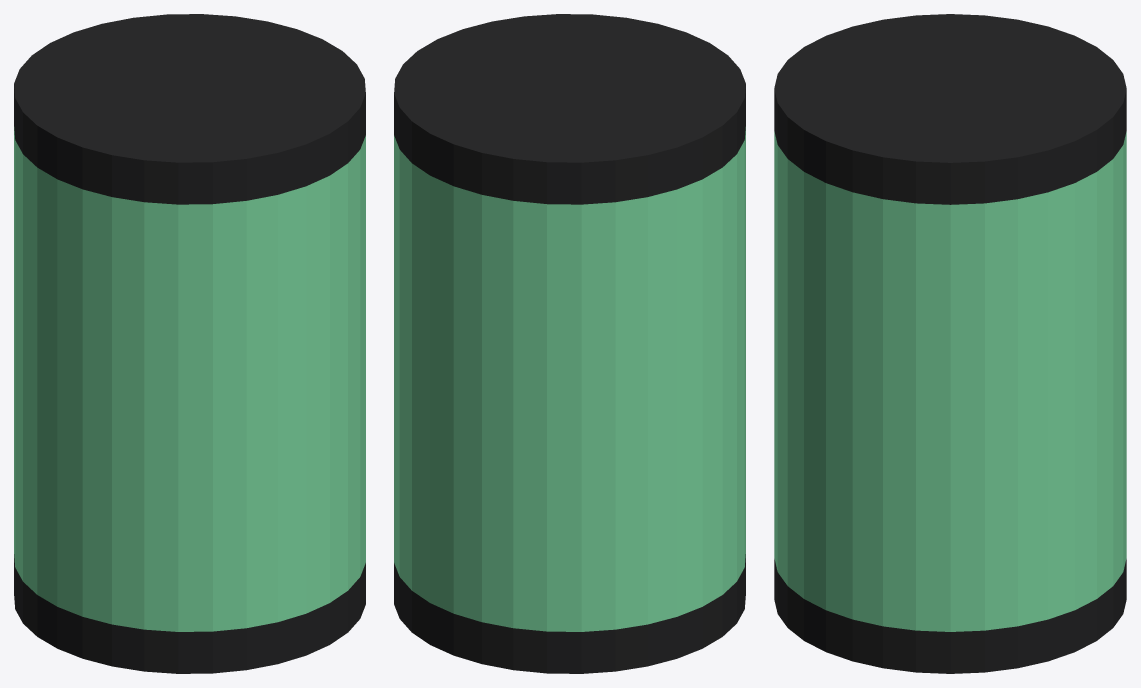
File: Portal Out.fbx
The picture shows the model from 3 angles, left to right: view 1: azimuth 30°, elevation 25°; view 2: azimuth 150°, elevation 25°; view 3: azimuth 270°, elevation 25°; orthographic projection.
Visible parts, largest first — view 1: Cylinder; view 2: Cylinder; view 3: Cylinder.
Part boxes in pixels (box(x1,y1,x2,y2)): Cylinder: box(14, 14, 365, 673); Cylinder: box(394, 14, 745, 673); Cylinder: box(774, 14, 1126, 673).
Bounding box in the file's own units: 100 × 160 × 100.
